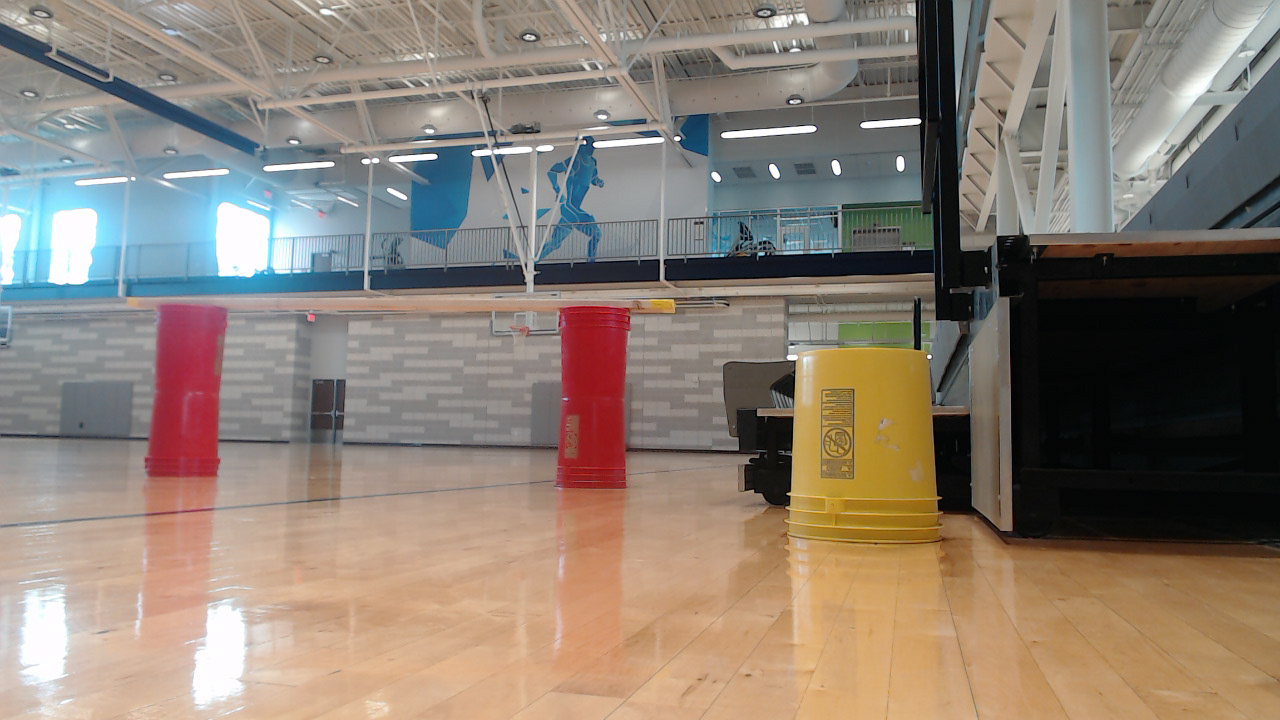red_bucket_arch: (144, 296, 638, 500)
yellow_bucket: (784, 347, 958, 555)
